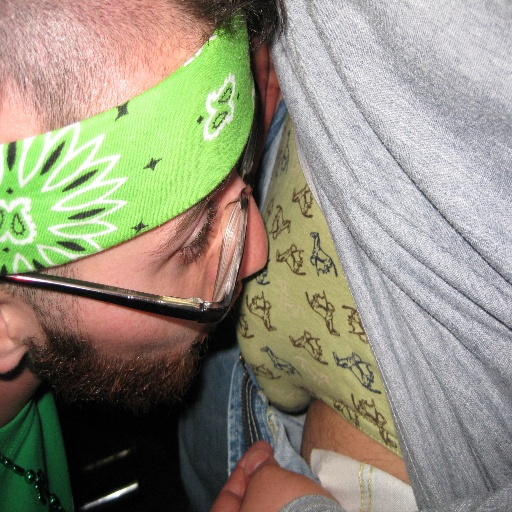hand: (209, 438, 339, 511)
